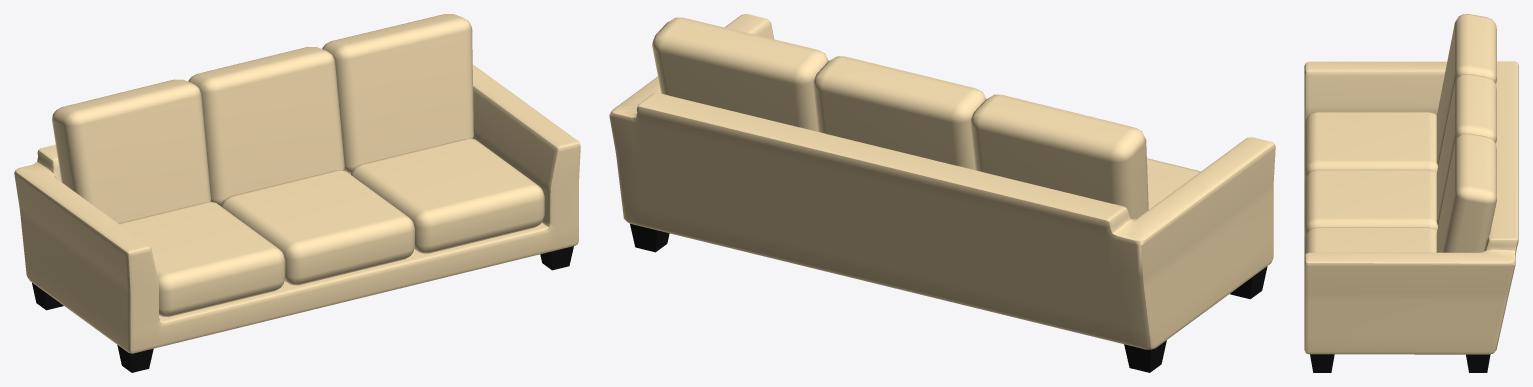
The model's file is couch.obj.
The picture shows the model from 3 angles, left to right: view 1: azimuth 30°, elevation 25°; view 2: azimuth 150°, elevation 25°; view 3: azimuth 270°, elevation 25°; orthographic projection. The views are drawn at different scales.
Visible parts, largest first — view 1: pCube4, pCube5, pCube6, pCube7, pCube1, pCube2, pCube3, pCube8, pCube11; view 2: pCube4, pCube7, pCube6, pCube5, pCube3, pCube9, pCube10, pCube8; view 3: pCube4, pCube1, pCube3, pCube6, pCube5, pCube7, pCube2, pCube10, pCube11.
Part boxes in pixels (x1,y1,x2,y2): pCube4: [14, 64, 580, 353]; pCube5: [188, 47, 344, 205]; pCube6: [322, 14, 473, 173]; pCube7: [52, 79, 210, 223]; pCube1: [221, 170, 414, 285]; pCube2: [351, 138, 544, 253]; pCube3: [118, 202, 285, 316]; pCube8: [117, 345, 153, 372]; pCube11: [540, 246, 573, 270]; pCube4: [609, 14, 1275, 349]; pCube7: [970, 94, 1148, 219]; pCube6: [652, 17, 828, 131]; pCube5: [813, 56, 985, 169]; pCube3: [1147, 158, 1200, 209]; pCube9: [1124, 340, 1166, 372]; pCube10: [630, 224, 669, 252]; pCube8: [1230, 266, 1267, 299]; pCube4: [1304, 61, 1518, 354]; pCube1: [1304, 169, 1437, 238]; pCube3: [1304, 112, 1437, 180]; pCube6: [1436, 133, 1496, 252]; pCube5: [1436, 74, 1496, 225]; pCube7: [1436, 14, 1496, 165]; pCube2: [1304, 227, 1436, 255]; pCube10: [1466, 354, 1490, 372]; pCube11: [1310, 354, 1334, 372].
Bounding box in the file's own units: 41.75 × 16.93 × 18.71.
